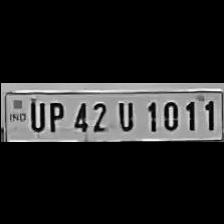0: (158, 97, 180, 131)
1: (198, 96, 218, 130), (181, 96, 199, 132), (140, 97, 158, 132)
2: (88, 98, 110, 132)
4: (67, 97, 89, 132)
P: (42, 97, 64, 132)
U: (113, 97, 138, 131), (26, 97, 44, 131)
